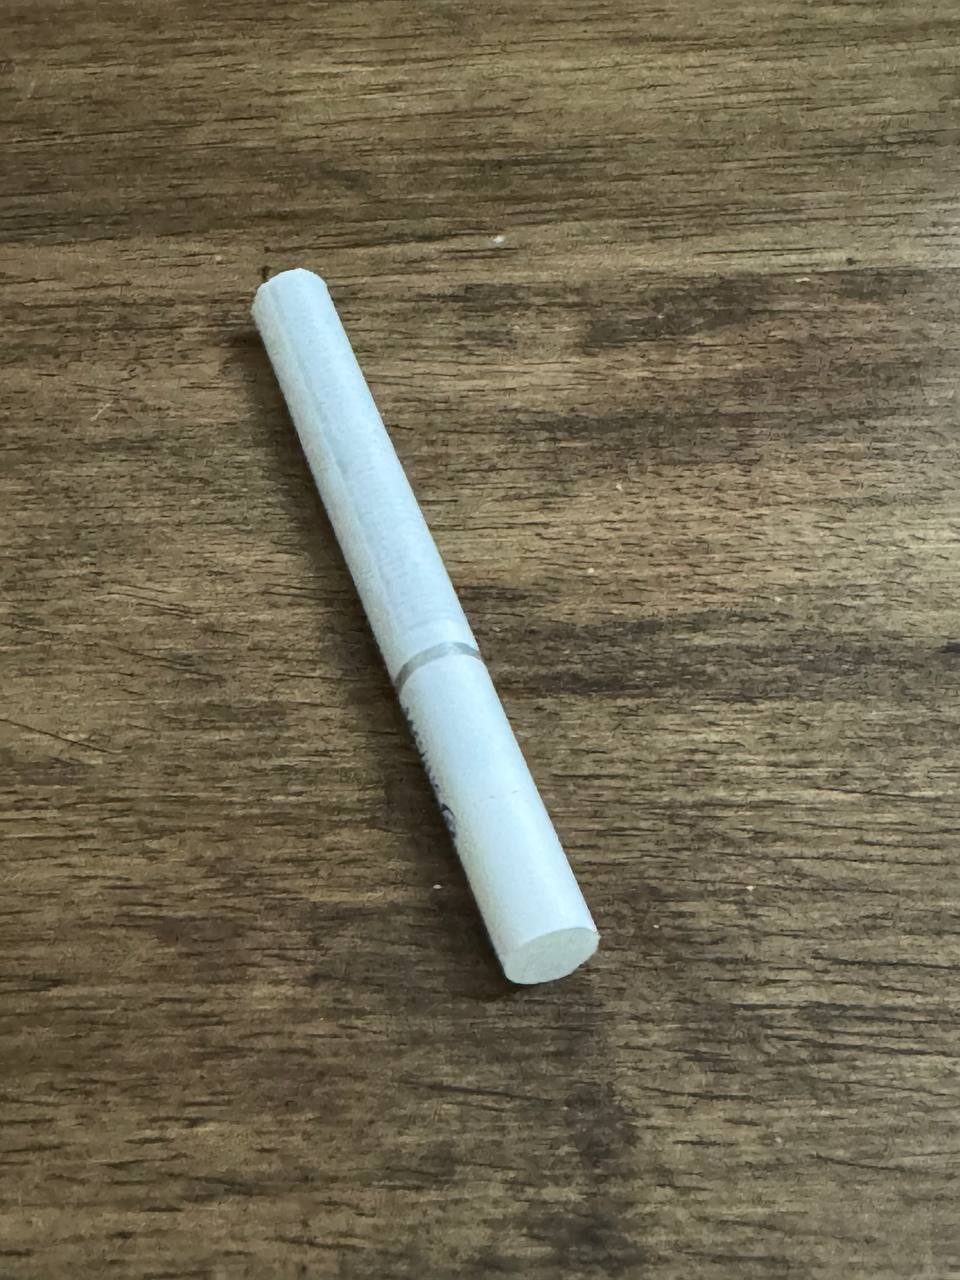trash: (241, 248, 603, 1006)
